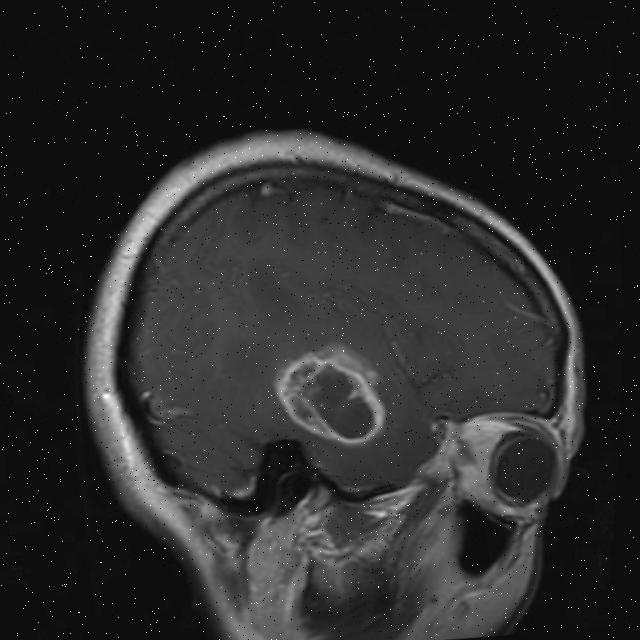Glioma: (265, 334, 394, 457)
